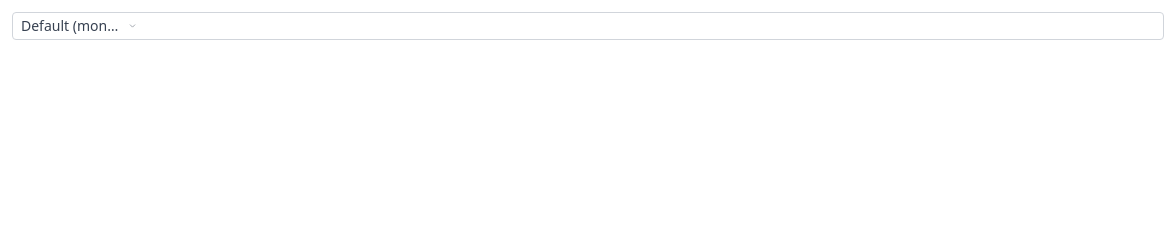
Scenario: FontFamilyInput › shows no matches for an unknown search
The image size is (1164, 225).
Click the button with aria-label "Font Family" at (79, 26), box [13, 13, 145, 39]
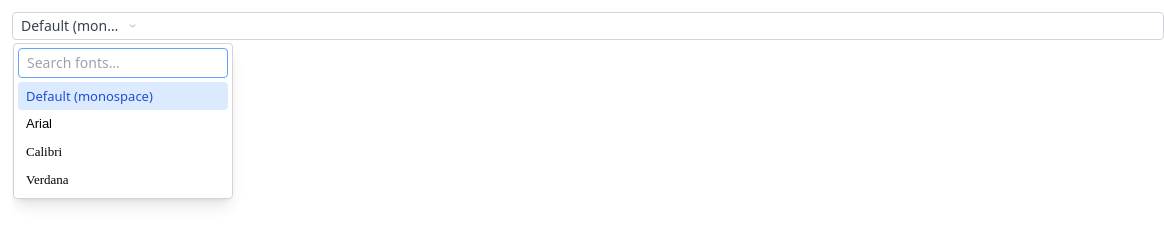
Expected: the option "Arial" is shown, [18, 110, 228, 138]
Type "not-a-real-font" into the field named "Search font families" at (123, 63), box [18, 48, 228, 78]
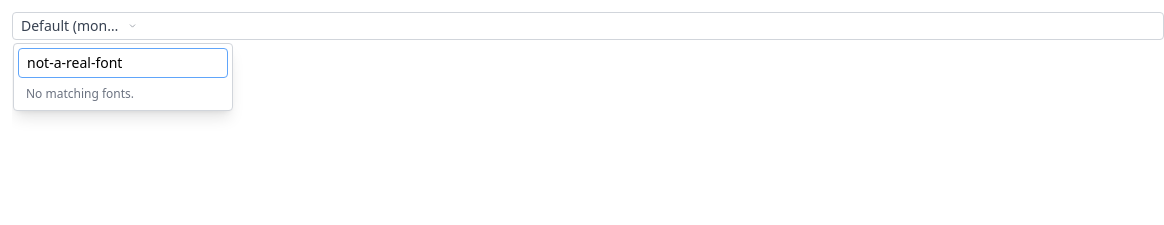
Expected: the text "No matching fonts." is shown, [26, 85, 134, 102]
